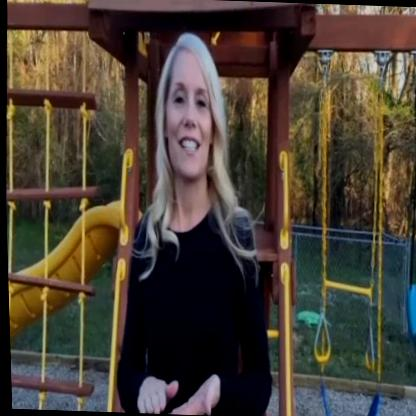ExcuseMe: (129, 347, 223, 416)
